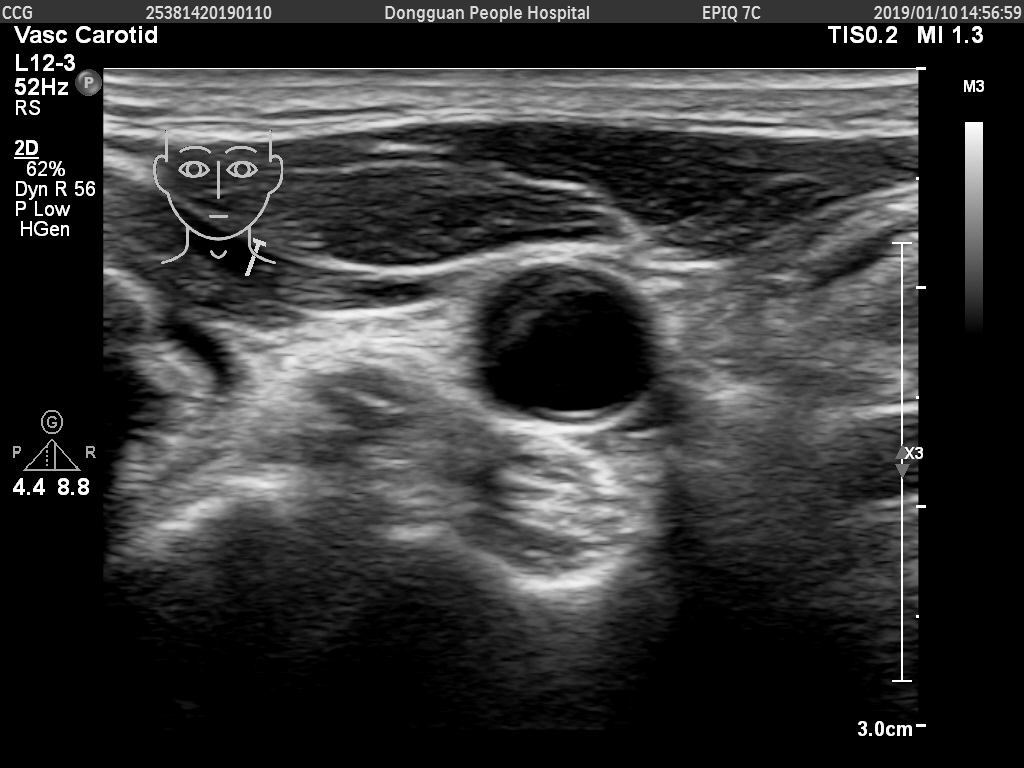plaque: (484, 262, 617, 369)
vessel: (468, 249, 667, 438)
